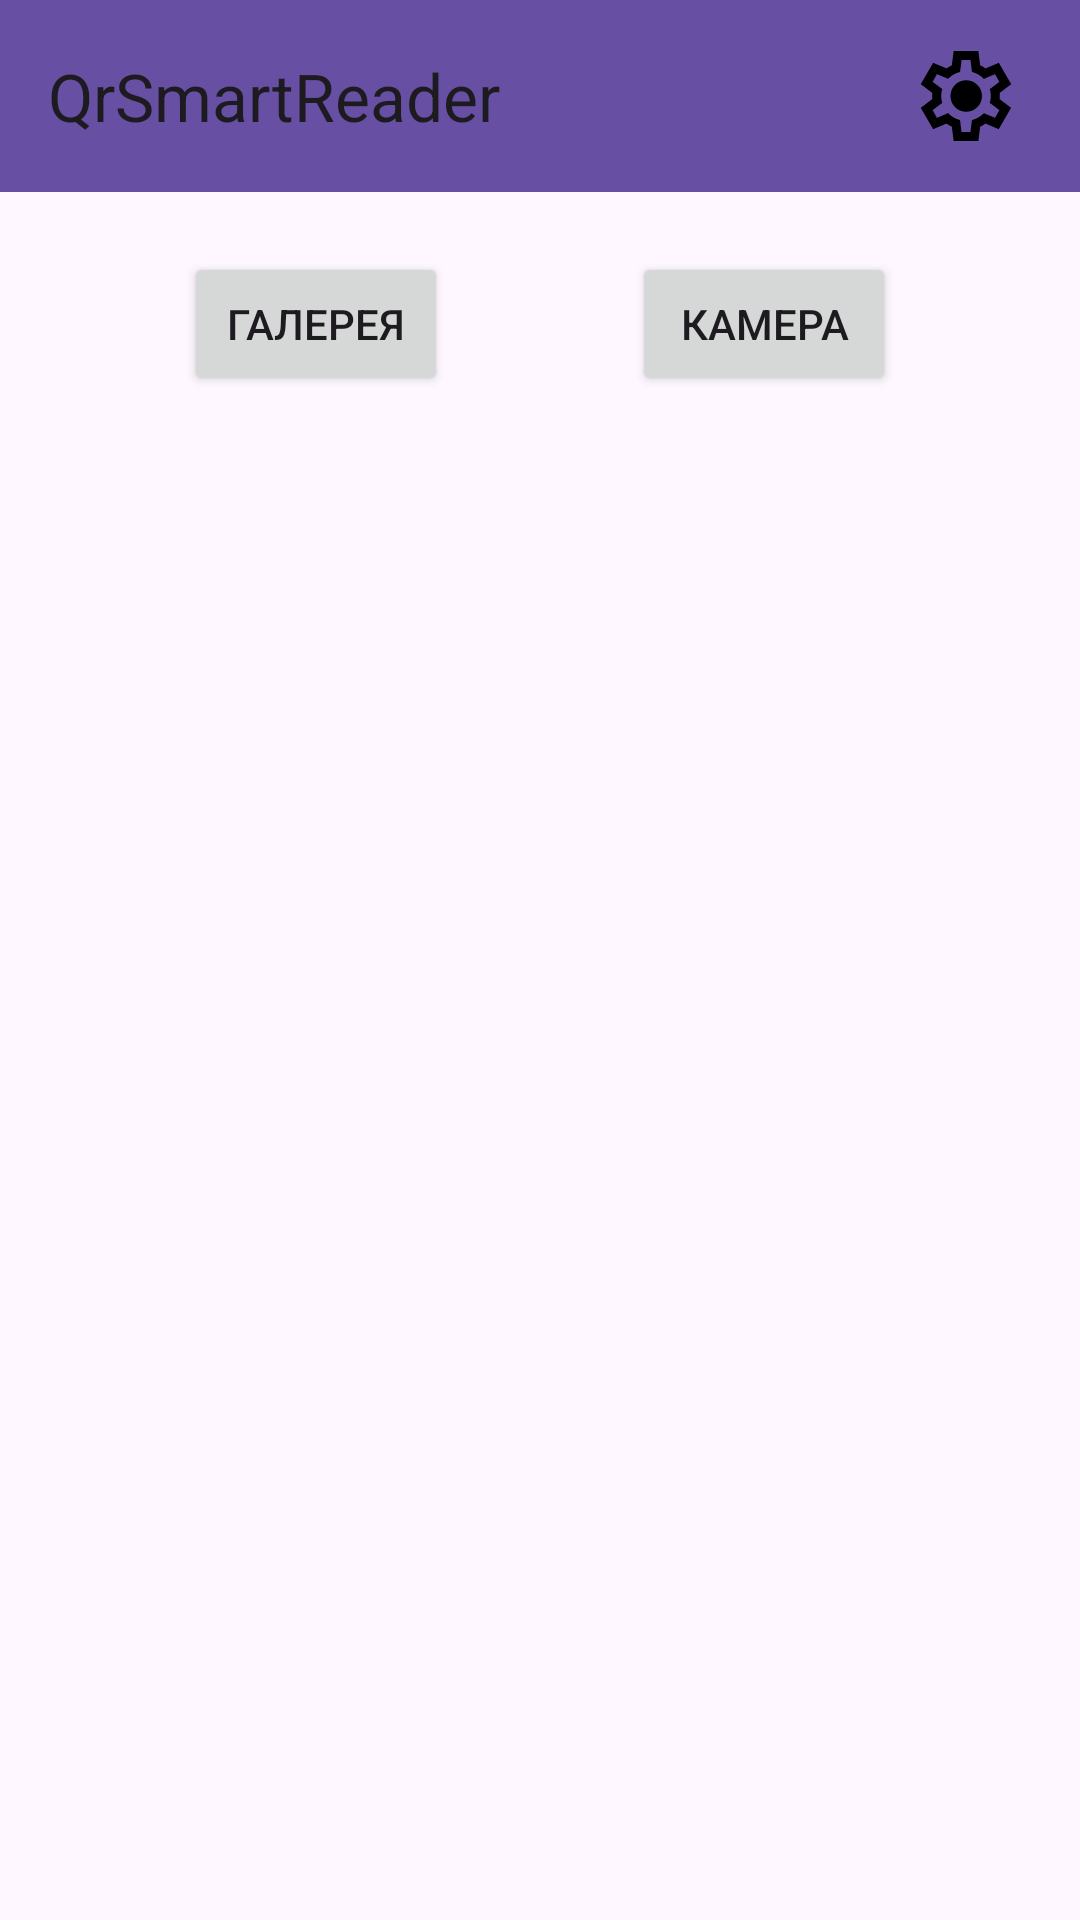

Screen size 1080x1920. Icon name, then its box in pixels as (x1, y1, x2, y2):
settings: (921, 51, 1011, 141)
